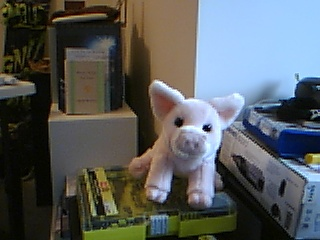piggy: (127, 78, 247, 211)
